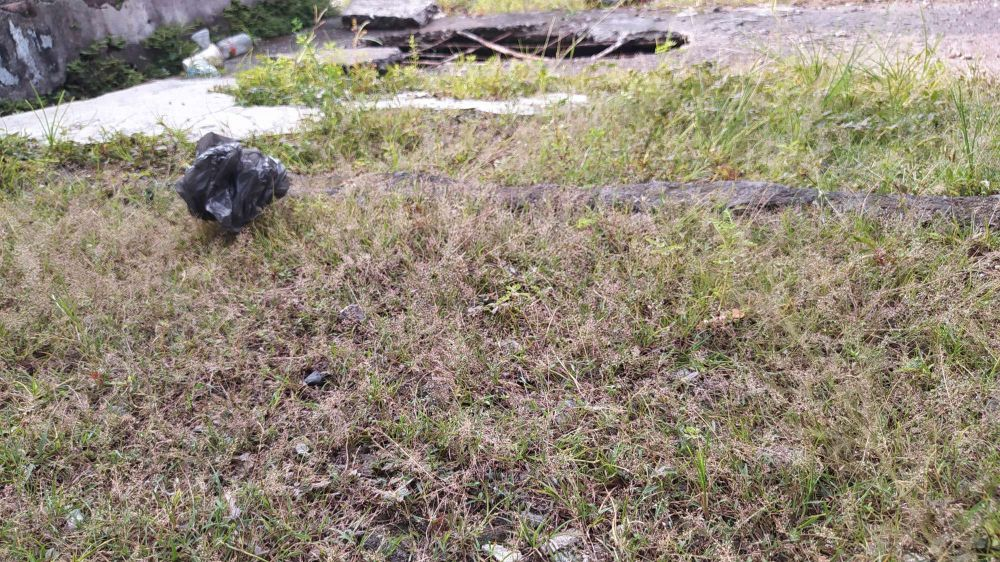plastik: (153, 132, 311, 241)
